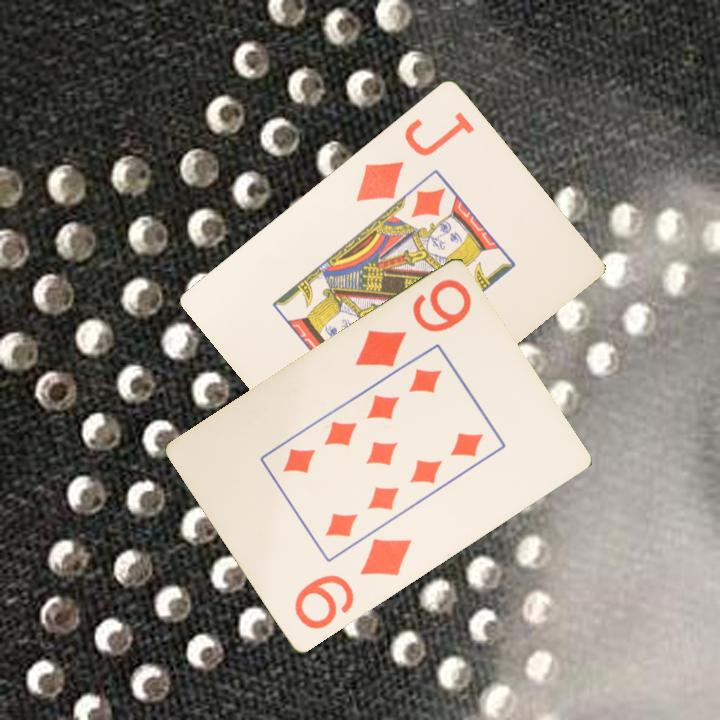9d: (290, 535, 415, 633), (351, 276, 475, 371)
Jd: (352, 107, 478, 205)
